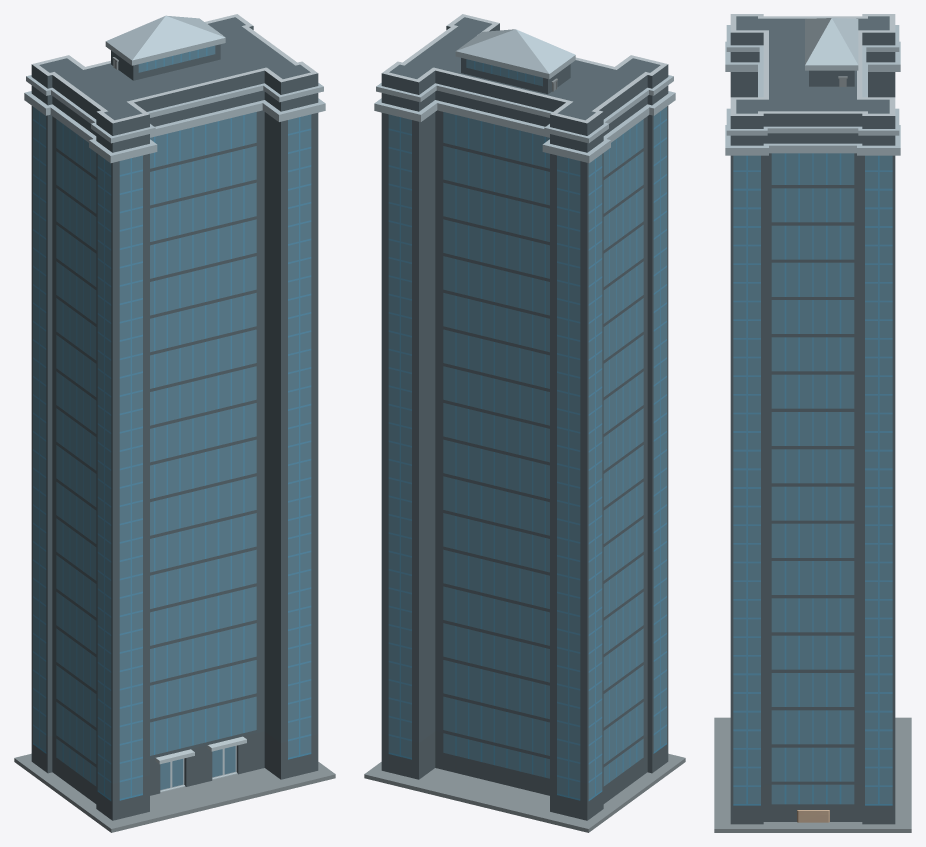
The model's file is Buldin Pack.fbx.
3 views of the same model, side by side, from view 1: azimuth 30°, elevation 25°; view 2: azimuth 150°, elevation 25°; view 3: azimuth 270°, elevation 25° (orthographic).
Visible parts, largest first — view 1: building main; view 2: building main; view 3: building main, Tower02Long.
Part boxes in pixels (left/top/right/bottom): building main: left=14, top=14, right=335, bottom=832; building main: left=364, top=14, right=685, bottom=832; building main: left=714, top=14, right=911, bottom=832; Tower02Long: left=797, top=810, right=829, bottom=822.
Size of the model in its own units: 4800 by 15276 by 3600.
